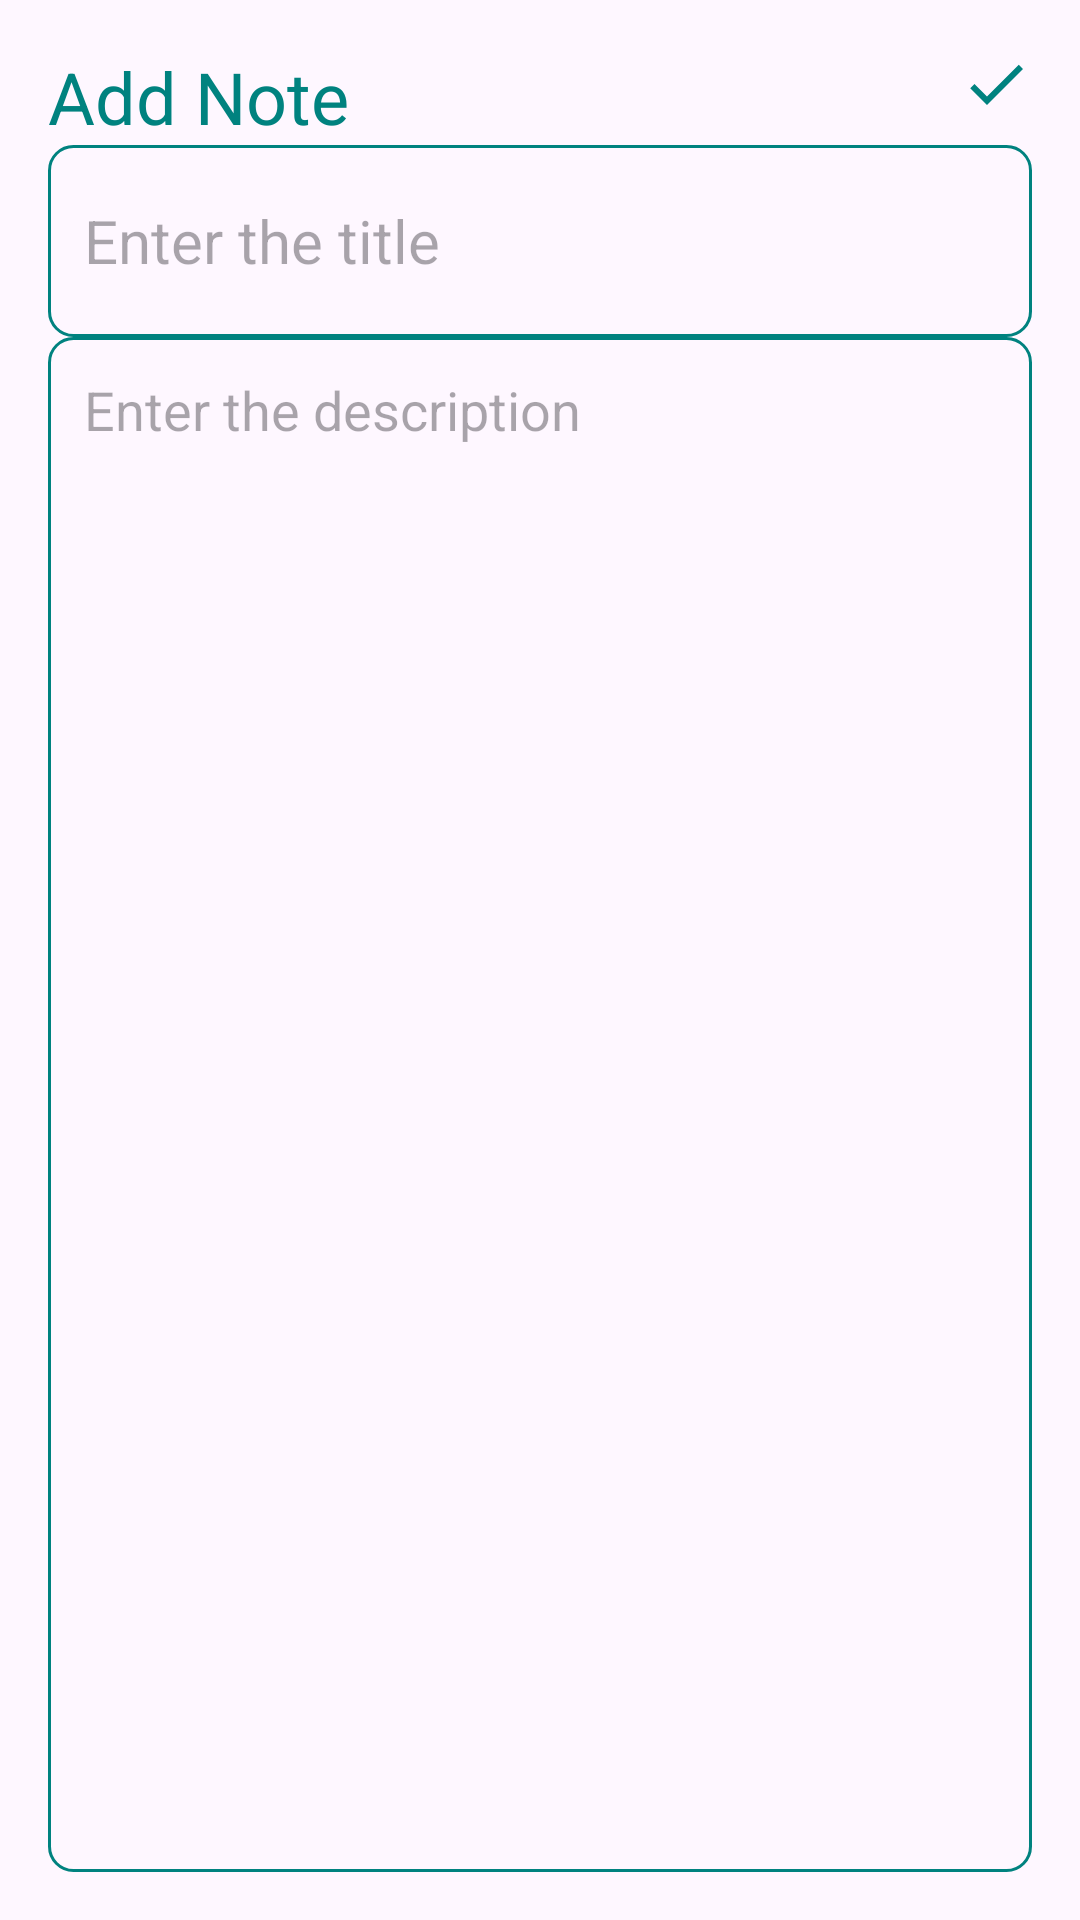

Screen size 1080*1920. Icon name, then its center in pixels as (x=x, y=y):
check: (x=996, y=85)
